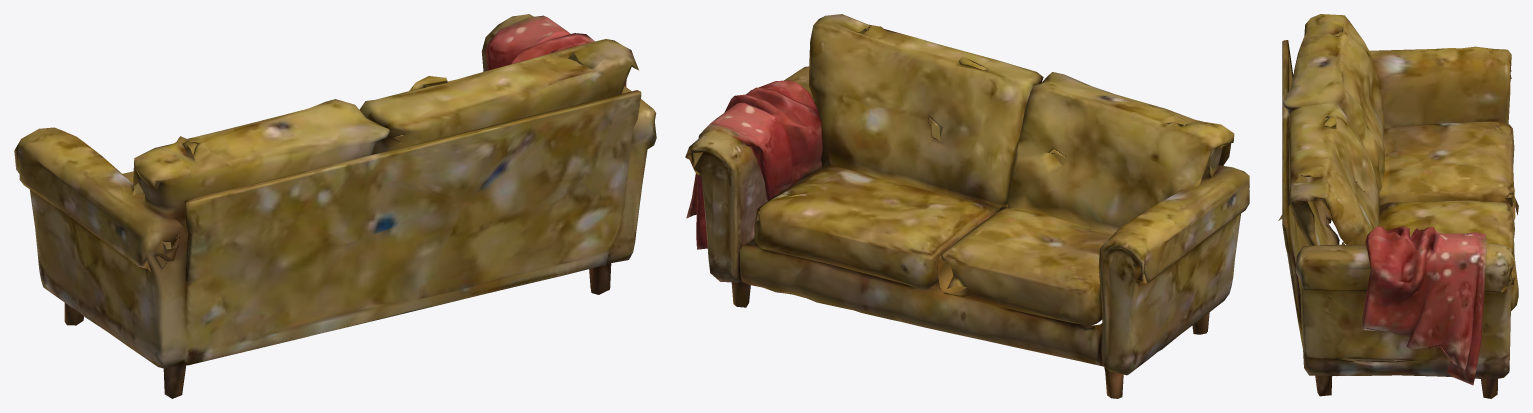
File: cel_sofa.glb
The picture shows the model from 3 angles, left to right: view 1: azimuth 30°, elevation 25°; view 2: azimuth 150°, elevation 25°; view 3: azimuth 270°, elevation 25°; orthographic projection. The views are drawn at different scales.
Parts seen in each view (by area): view 1: tripo_node_096676d0-e364-4e6c-8e9d-fa7a3b09d8d6; view 2: tripo_node_096676d0-e364-4e6c-8e9d-fa7a3b09d8d6; view 3: tripo_node_096676d0-e364-4e6c-8e9d-fa7a3b09d8d6.
Boxes of the visible parts, <box> form: tripo_node_096676d0-e364-4e6c-8e9d-fa7a3b09d8d6: <box>14,14,656,398</box>; tripo_node_096676d0-e364-4e6c-8e9d-fa7a3b09d8d6: <box>685,14,1249,398</box>; tripo_node_096676d0-e364-4e6c-8e9d-fa7a3b09d8d6: <box>1278,14,1518,398</box>.
Size of the model in its own units: 1 by 0.4348 by 0.4527.
Materials: 1 (1 with a texture image).
